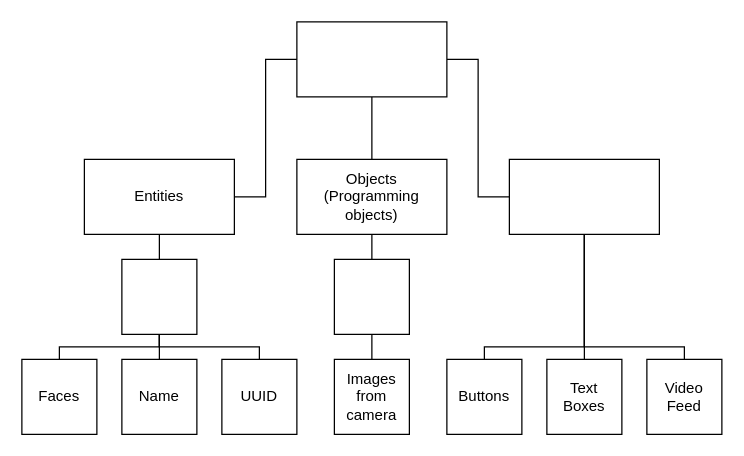
Image size: 744x456. Some labels were removed from this diagram. Each missing label, with the centre of its shape:
"Camera" goes at (371,296).
"People" goes at (159,296).
"Solution" goes at (371,59).
"Webpage" goes at (583,196).
